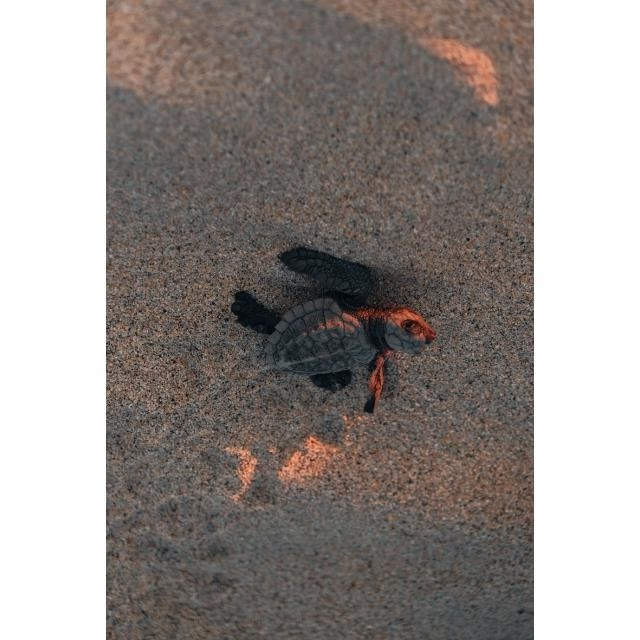turtle: (229, 244, 436, 416)
